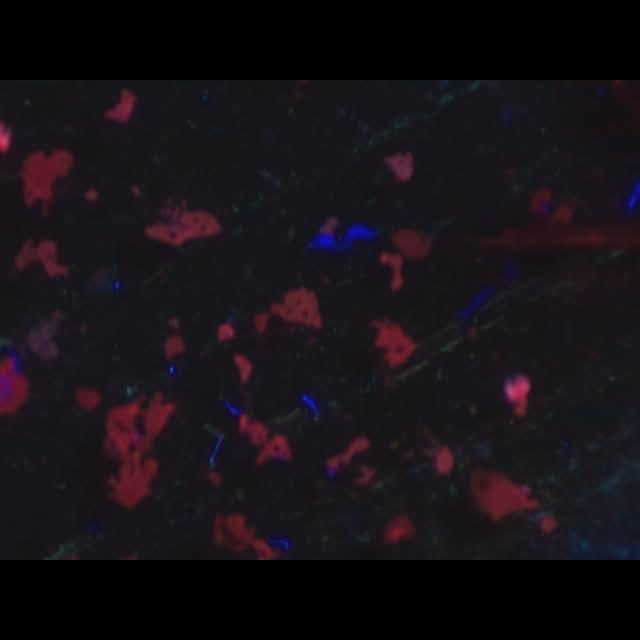Fragment: (103, 392, 174, 509), (213, 514, 278, 559), (504, 375, 530, 416)
